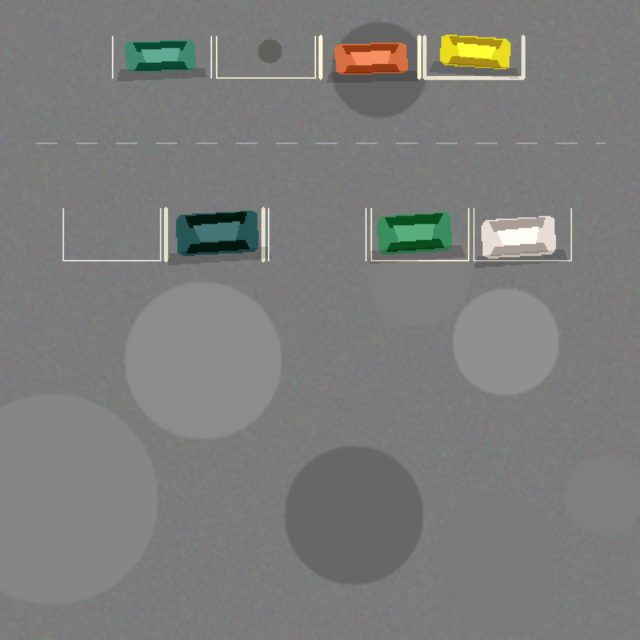space-empty: (63, 208, 160, 260), (268, 208, 365, 260), (216, 36, 315, 77)
space-occupied: (165, 208, 263, 260), (473, 208, 571, 260), (371, 208, 468, 260), (112, 36, 211, 77), (320, 36, 419, 77), (424, 36, 523, 77)
